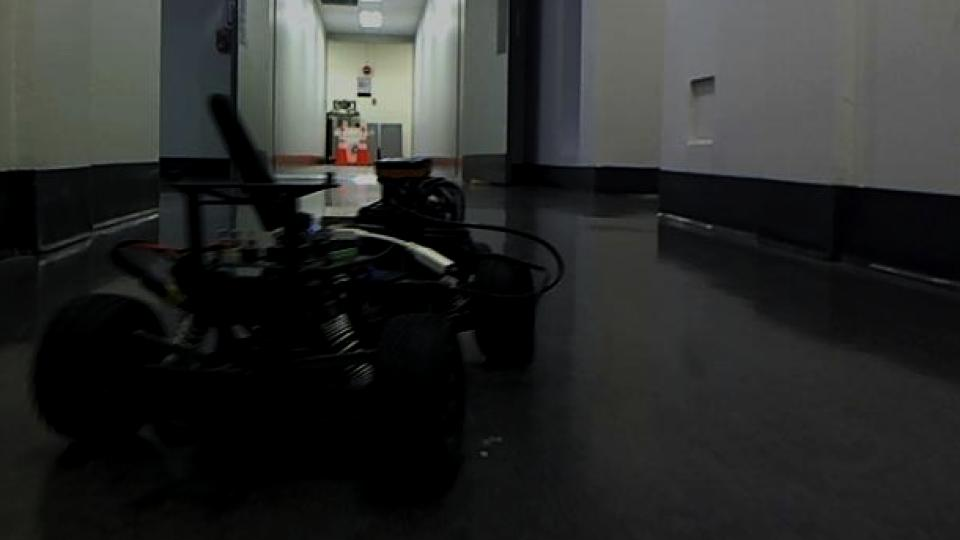car: (28, 92, 566, 490)
